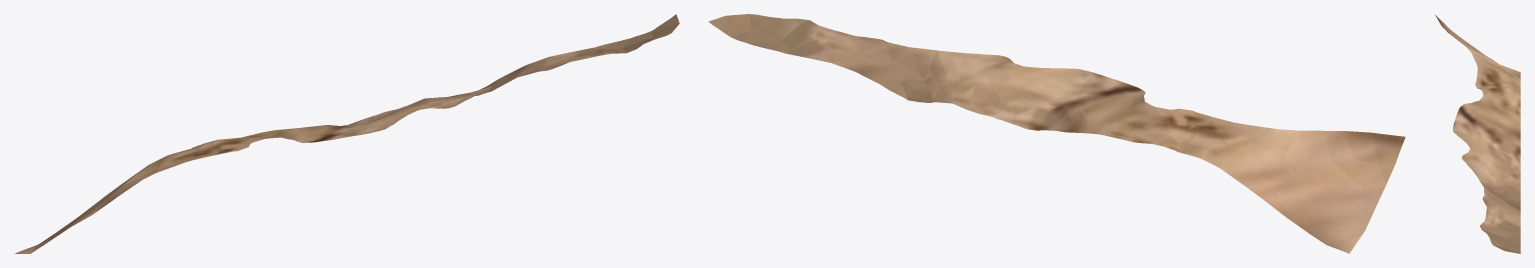
3 views of the same model, side by side, from view 1: azimuth 30°, elevation 25°; view 2: azimuth 150°, elevation 25°; view 3: azimuth 270°, elevation 25° (orthographic). The views are drawn at different scales.
Size of the model in its own units: 0.9648 by 0.1092 by 0.1471.
Materials: 1 (1 with a texture image).
